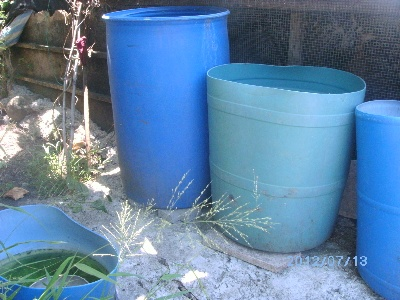bucket: (205, 61, 366, 256), (100, 5, 232, 210)
